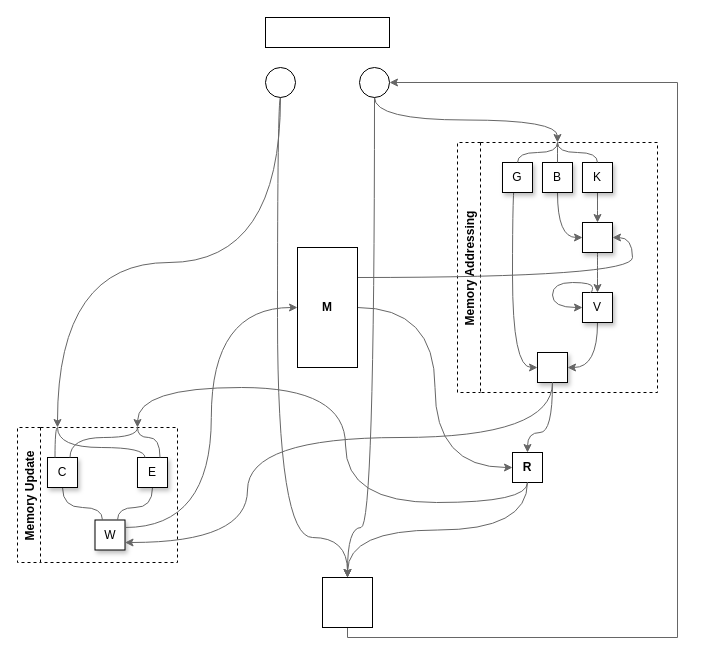
This 703x663 diagram has some shape labels left out. Each missing label, with the centre of its shape:
"D-NTM variant" belongs at pixel 327 32.
"h t" belongs at pixel 374 82.
"LRU" belongs at pixel 553 369.
"RNN" belongs at pixel 347 602.
"SIM" belongs at pixel 598 239.
"x t" belongs at pixel 280 82.
